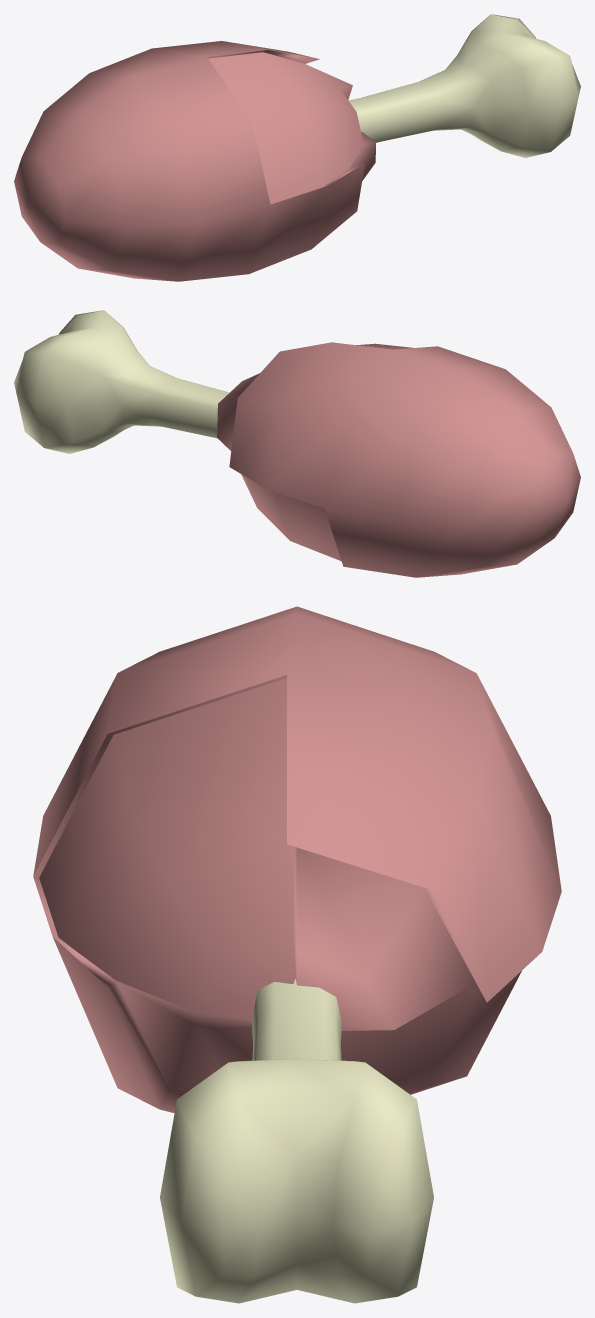
Rendered from Giant Drumstick.fbx.
The picture shows the model from 3 angles, top to bottom: view 1: azimuth 30°, elevation 25°; view 2: azimuth 150°, elevation 25°; view 3: azimuth 270°, elevation 25°; orthographic projection. The views are drawn at different scales.
Parts seen in each view (by area): view 1: Sphere, Bone; view 2: Sphere, Bone; view 3: Sphere, Bone.
Part boxes in pixels (box(x1,y1,x2,y2)): Sphere: box(14, 41, 375, 281); Bone: box(348, 14, 580, 157); Sphere: box(217, 342, 580, 577); Bone: box(14, 310, 229, 453); Sphere: box(33, 606, 561, 1113); Bone: box(160, 978, 433, 1303).
Bounding box in the file's own units: 2.34 × 0.8785 × 1.
